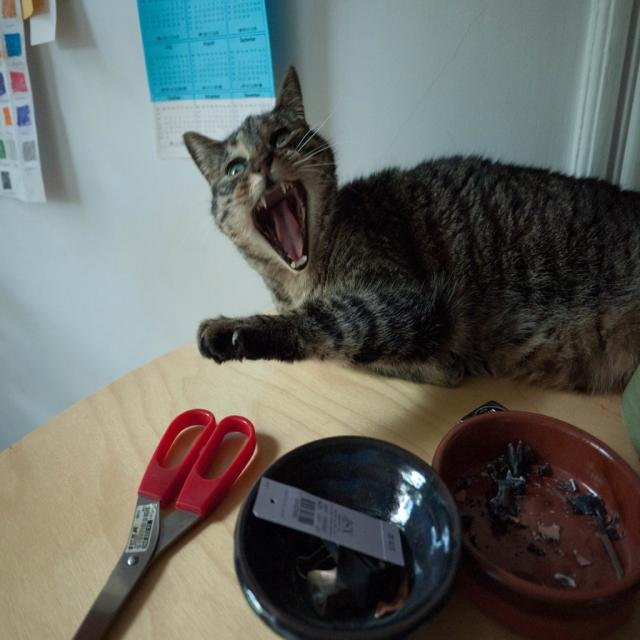scissors: (71, 408, 257, 638)
